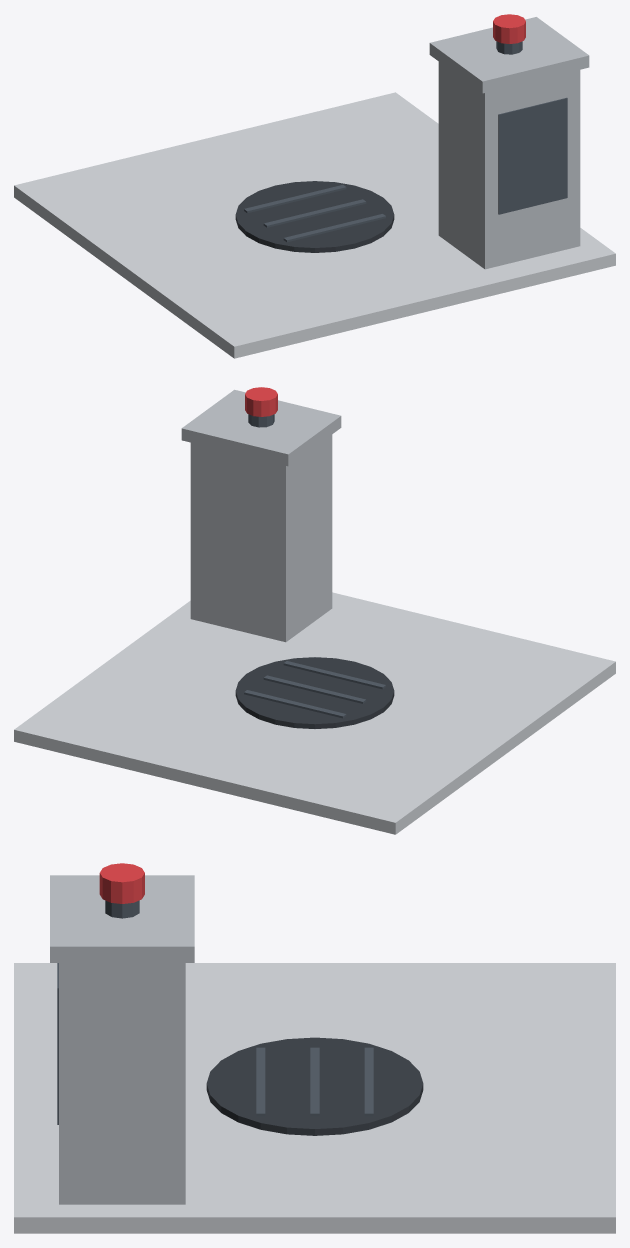
The model's file is weir-chamber.glb.
3 renders of one model, top to bottom at view 1: azimuth 30°, elevation 25°; view 2: azimuth 150°, elevation 25°; view 3: azimuth 270°, elevation 25°, orthographic. The views are drawn at different scales.
Visible parts, largest first — view 1: WeirSlab, WeirFurniture, WeirBeacon; view 2: WeirSlab, WeirFurniture, WeirBeacon; view 3: WeirSlab, WeirFurniture, WeirBeacon.
Boxes of the visible parts, x1,y1,x2,y2 form: WeirSlab: (14, 92, 615, 358); WeirFurniture: (235, 17, 589, 269); WeirBeacon: (493, 14, 525, 43); WeirSlab: (14, 592, 615, 834); WeirFurniture: (181, 389, 394, 728); WeirBeacon: (245, 387, 277, 416); WeirSlab: (14, 963, 615, 1233); WeirFurniture: (50, 875, 423, 1204); WeirBeacon: (99, 863, 144, 903).
Size of the model in its own units: 2 by 1.16 by 2.
Materials: 2 (2 with a texture image).
